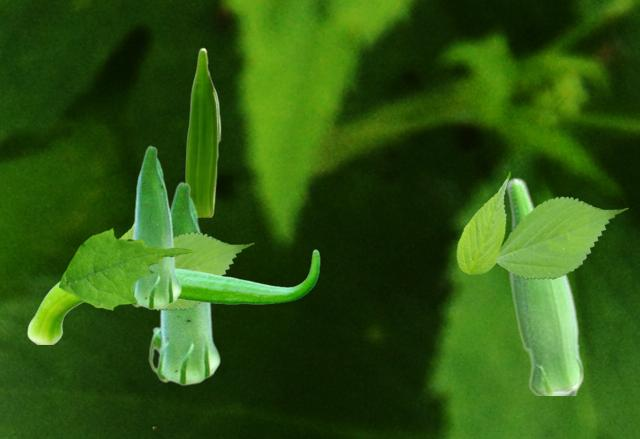okra: (27, 249, 319, 343), (505, 177, 582, 394), (148, 181, 220, 385), (131, 145, 181, 309), (185, 47, 220, 216)
